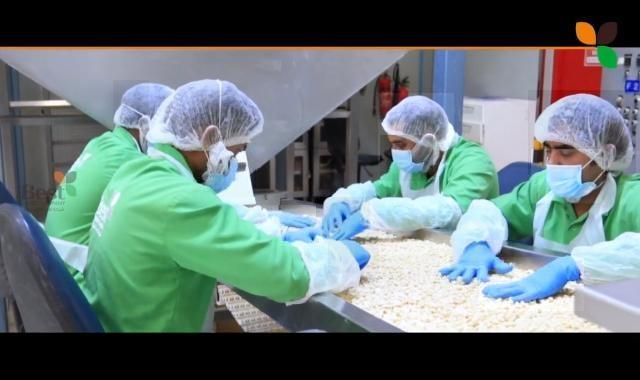apron: (479, 258, 584, 312), (443, 240, 512, 282), (314, 197, 371, 236), (328, 231, 379, 274), (270, 218, 322, 246), (264, 205, 317, 226)
gloves: (528, 90, 636, 174), (149, 80, 262, 146), (378, 93, 454, 165), (113, 81, 179, 128)
mask: (532, 149, 602, 203), (194, 138, 257, 197), (380, 136, 433, 182)
